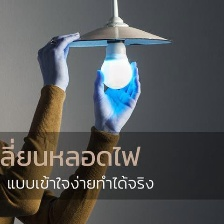light_bulb: (97, 32, 135, 94)
